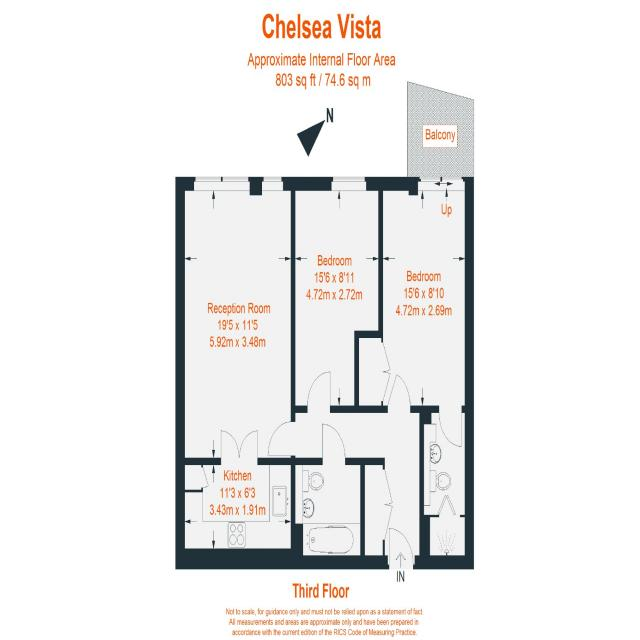DOOR: (437, 405, 465, 452), (384, 370, 414, 413), (265, 417, 296, 457), (321, 421, 347, 465), (306, 369, 332, 413), (388, 527, 415, 569)
DOUBLE DOOR: (219, 428, 259, 465)
ROOM: (175, 176, 295, 464), (354, 177, 474, 455), (291, 177, 383, 413), (175, 427, 303, 572)
WINDOW: (193, 175, 251, 192), (417, 175, 466, 193), (331, 176, 367, 192), (261, 175, 284, 192)
